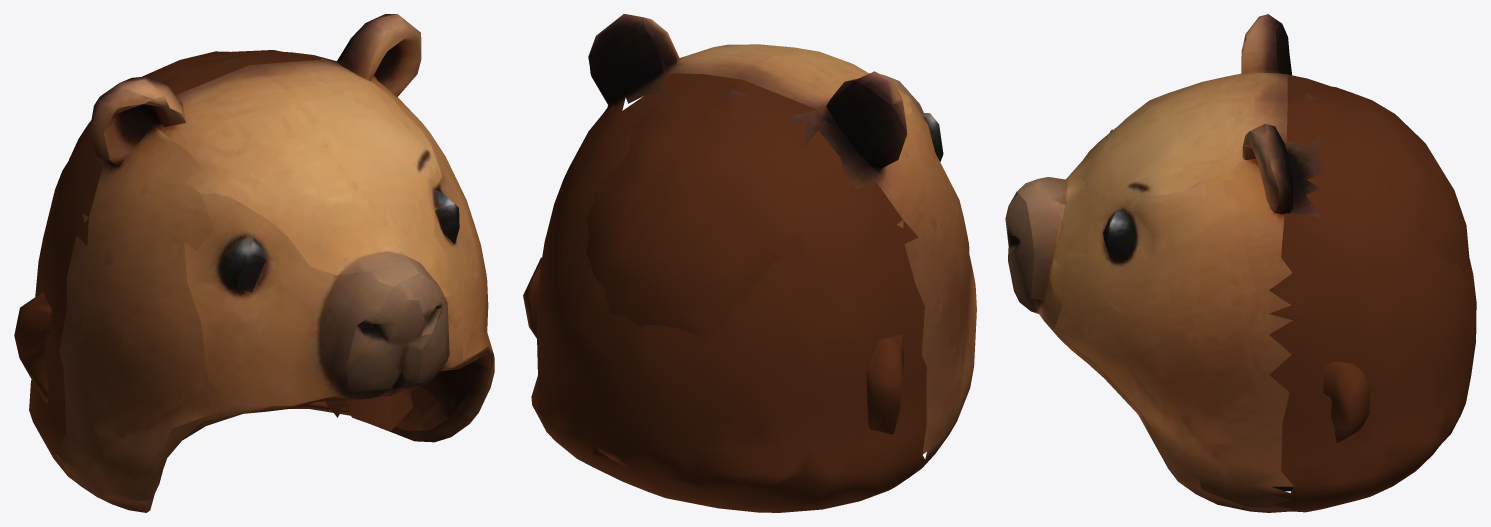
File: capybara.glb
The picture shows the model from 3 angles, left to right: view 1: azimuth 30°, elevation 25°; view 2: azimuth 150°, elevation 25°; view 3: azimuth 270°, elevation 25°; orthographic projection. The views are drawn at different scales.
Parts seen in each view (by area): view 1: geometry_0, HoodAnatomicalLining; view 2: geometry_0, HoodAnatomicalLining; view 3: geometry_0, HoodAnatomicalLining.
Boxes of the visible parts, <box> form: geometry_0: <box>29,14,494,512</box>; HoodAnatomicalLining: <box>14,50,418,431</box>; geometry_0: <box>531,14,976,512</box>; HoodAnatomicalLining: <box>523,95,904,434</box>; geometry_0: <box>1005,14,1476,512</box>; HoodAnatomicalLining: <box>1283,86,1469,443</box>.
Size of the model in its own units: 0.4602 by 0.4686 by 0.5304.
2 materials, 1 textured.
